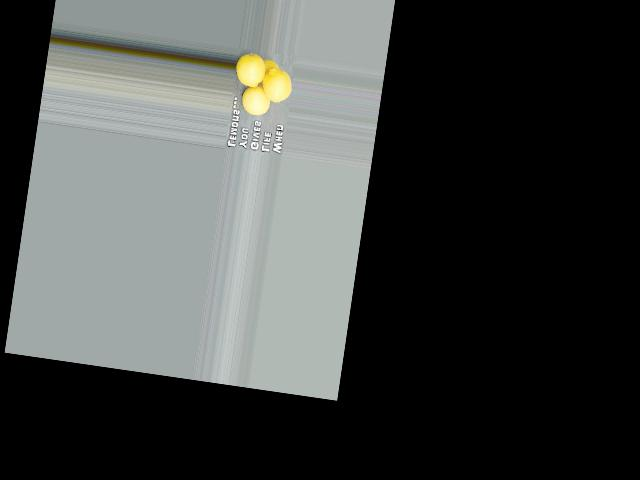lemon: (235, 51, 267, 90)
